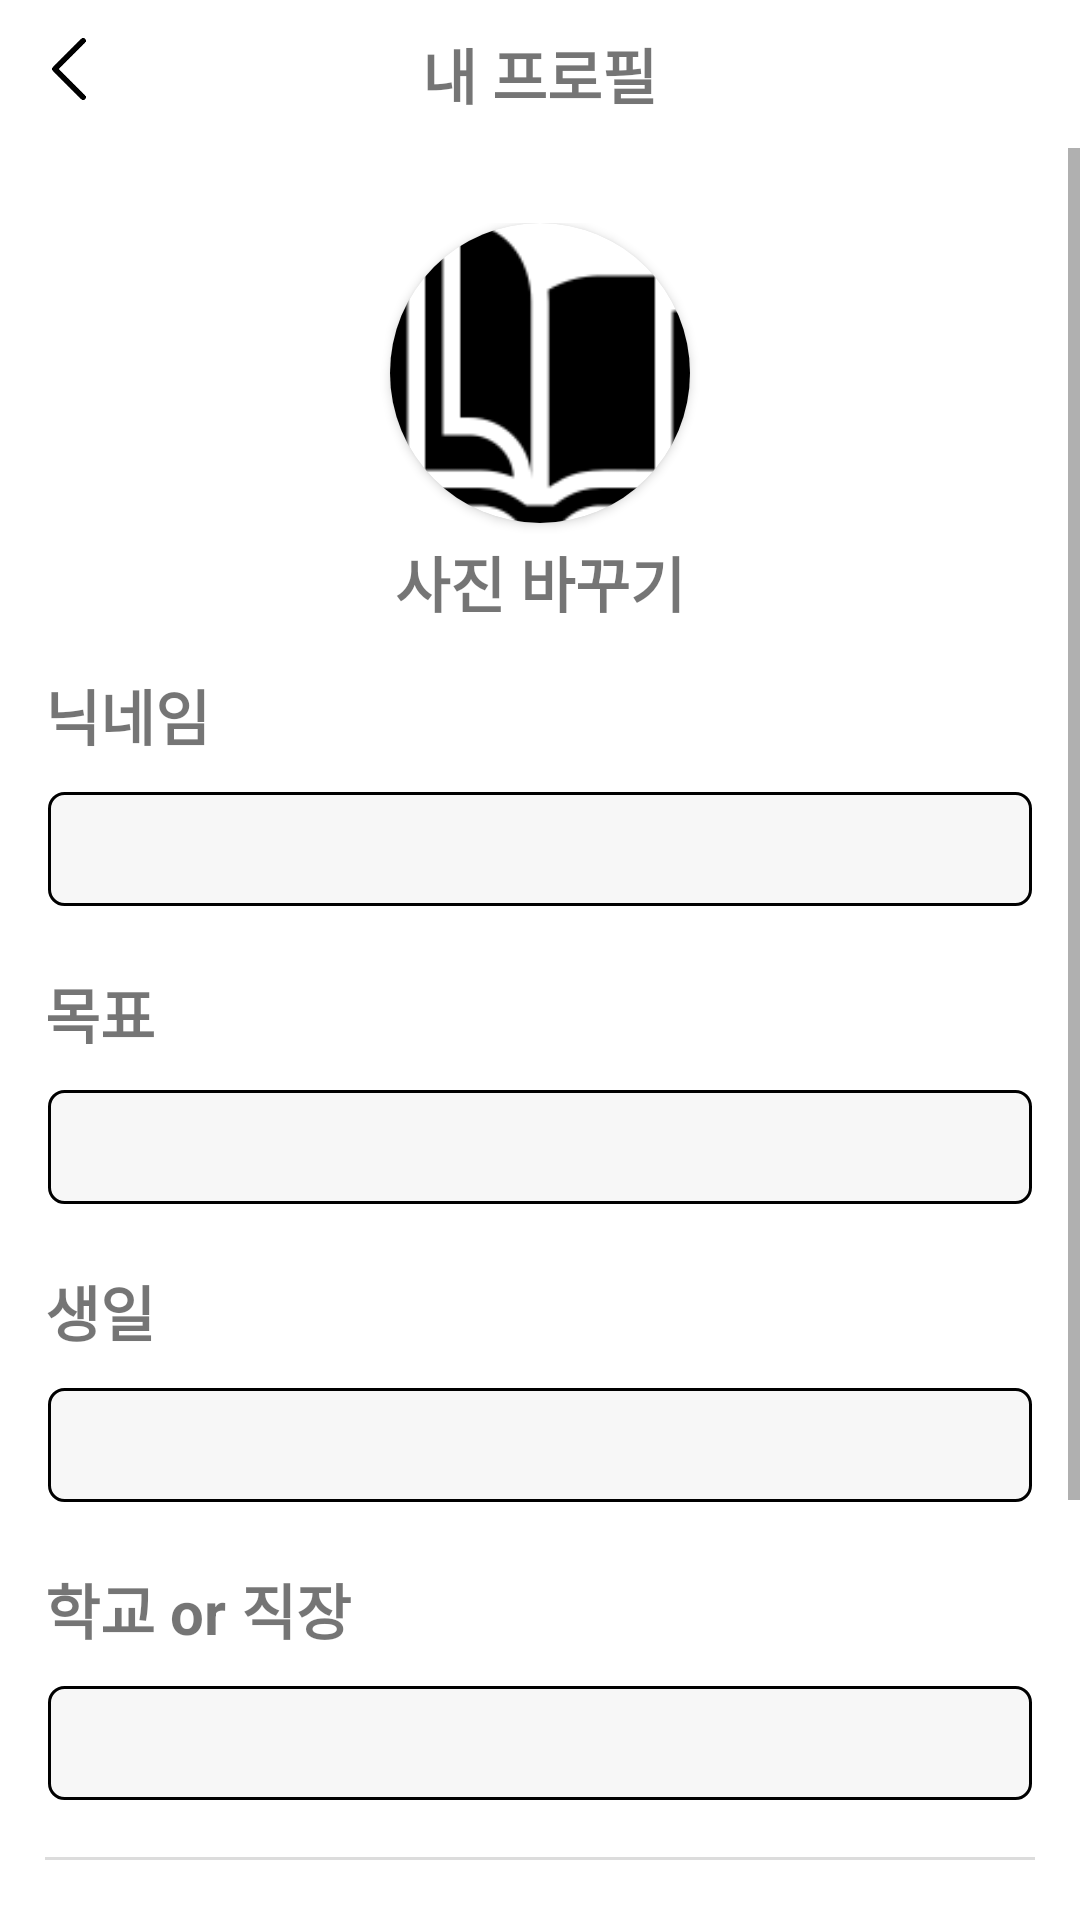

Screen size 1080 x 1920. Icon name, then its center in pixels as [x,y]:
back: [69,69]
book push: [540,376]
